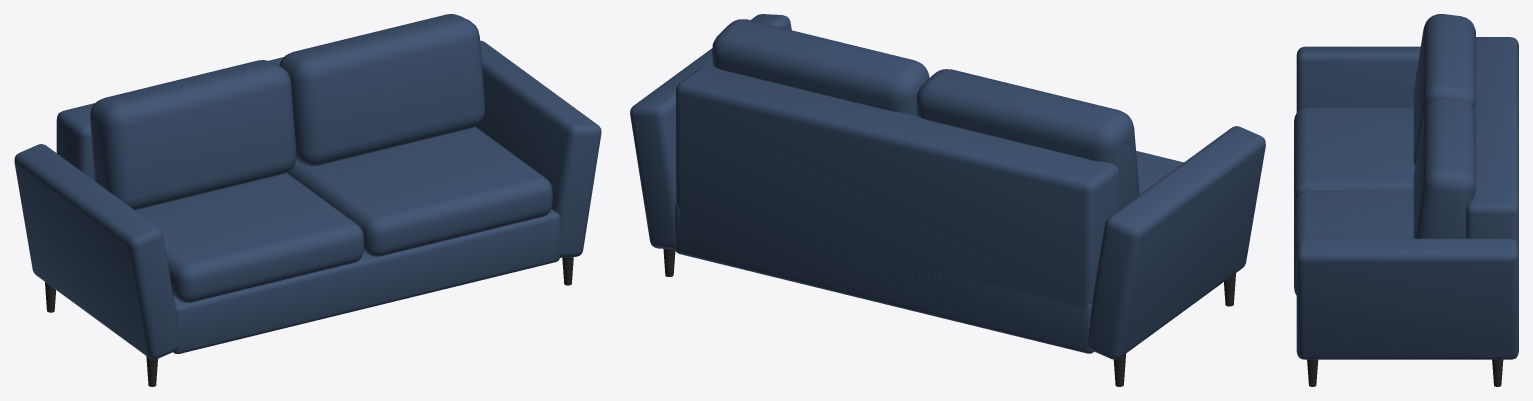
The model's file is angled-arm-3-seat-sofa.glb.
3 views of the same model, side by side, from view 1: azimuth 30°, elevation 25°; view 2: azimuth 150°, elevation 25°; view 3: azimuth 270°, elevation 25° (orthographic). The views are drawn at different scales.
Visible parts, largest first — view 1: angled-arm-3-seat-sofa; view 2: angled-arm-3-seat-sofa; view 3: angled-arm-3-seat-sofa.
Boxes of the visible parts, left/top/right/bottom form: angled-arm-3-seat-sofa: left=14, top=14, right=601, bottom=386; angled-arm-3-seat-sofa: left=630, top=14, right=1265, bottom=386; angled-arm-3-seat-sofa: left=1294, top=14, right=1518, bottom=386.
Size of the model in its own units: 1.9 by 0.85 by 0.86.
